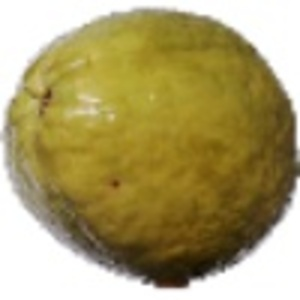goiaba: (2, 6, 297, 281)
